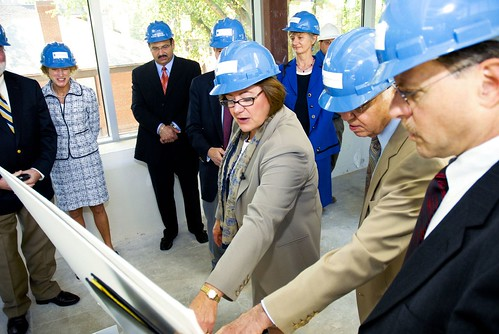person hardhat: (370, 1, 497, 160), (317, 28, 394, 137), (209, 40, 281, 133), (40, 42, 77, 86), (282, 11, 318, 54), (144, 20, 175, 64), (318, 23, 343, 55)
